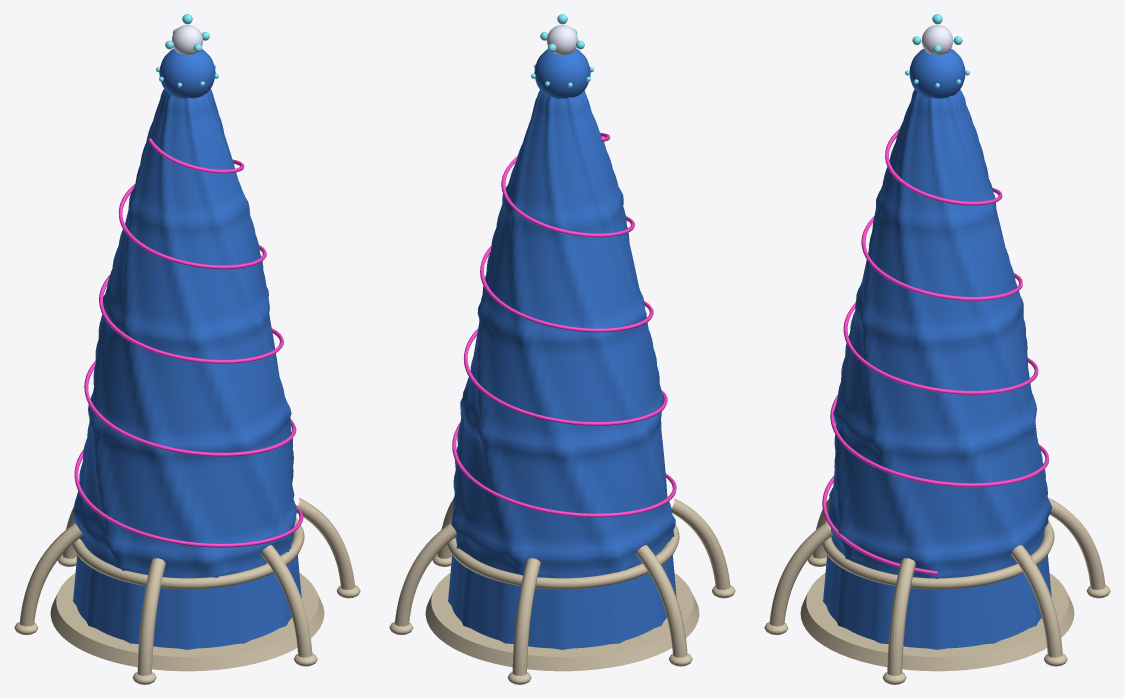
Rendered from spiral_tower.glb.
3 renders of one model, left to right at view 1: azimuth 30°, elevation 25°; view 2: azimuth 150°, elevation 25°; view 3: azimuth 270°, elevation 25°, orthographic.
Parts seen in each view (by area): view 1: shell, ribs, helix, crown; view 2: shell, ribs, helix, crown; view 3: shell, ribs, helix, crown.
Part boxes in pixels (box(x1,y1,x2,y2)): shell: box(73, 48, 301, 649); ribs: box(14, 498, 360, 684); helix: box(74, 138, 303, 547); crown: box(171, 25, 203, 54); shell: box(448, 48, 676, 649); ribs: box(389, 497, 735, 684); helix: box(452, 132, 676, 517); crown: box(546, 25, 578, 54); shell: box(823, 48, 1052, 649); ribs: box(764, 498, 1110, 684); helix: box(822, 129, 1049, 575); crown: box(921, 25, 953, 54).
Bounding box in the file's own units: 9.24 × 17.66 × 9.23.
